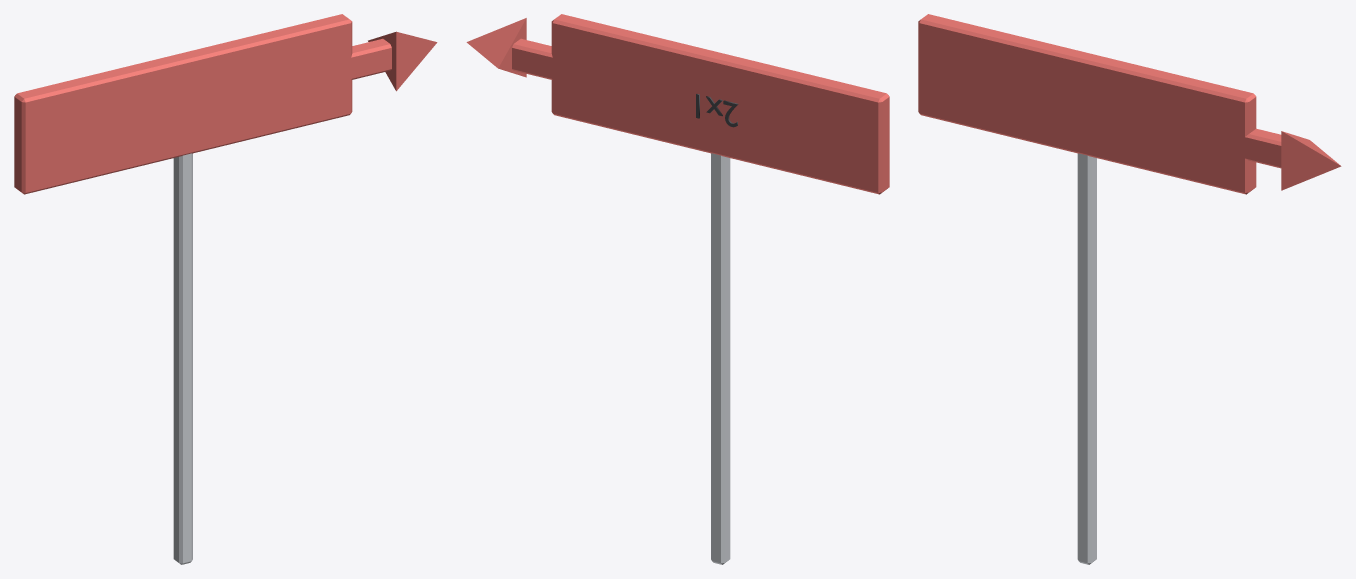
Rendered from Senal_Promo.fbx.
3 renders of one model, left to right at view 1: azimuth 30°, elevation 25°; view 2: azimuth 150°, elevation 25°; view 3: azimuth 330°, elevation 25°, orthographic.
Visible parts, largest first — view 1: Senal_Promo | Panel senal, Senal_Promo | Poste senal, Senal_Promo | Punta flecha, Senal_Promo | Flecha; view 2: Senal_Promo | Panel senal, Senal_Promo | Poste senal, Senal_Promo | Punta flecha, Senal_Promo | Flecha; view 3: Senal_Promo | Panel senal, Senal_Promo | Poste senal, Senal_Promo | Punta flecha, Senal_Promo | Flecha.
Boxes of the visible parts, bbox=[...] form: Senal_Promo | Panel senal: bbox=[14, 14, 352, 194]; Senal_Promo | Poste senal: bbox=[173, 153, 192, 564]; Senal_Promo | Punta flecha: bbox=[368, 31, 437, 91]; Senal_Promo | Flecha: bbox=[346, 38, 391, 79]; Senal_Promo | Panel senal: bbox=[551, 14, 889, 194]; Senal_Promo | Poste senal: bbox=[711, 153, 730, 564]; Senal_Promo | Punta flecha: bbox=[466, 18, 526, 77]; Senal_Promo | Flecha: bbox=[512, 38, 557, 79]; Senal_Promo | Panel senal: bbox=[918, 14, 1256, 194]; Senal_Promo | Poste senal: bbox=[1077, 153, 1096, 564]; Senal_Promo | Punta flecha: bbox=[1281, 131, 1341, 190]; Senal_Promo | Flecha: bbox=[1240, 128, 1281, 168].
Size of the model in its own units: 1.65 by 1.9 by 0.195.
